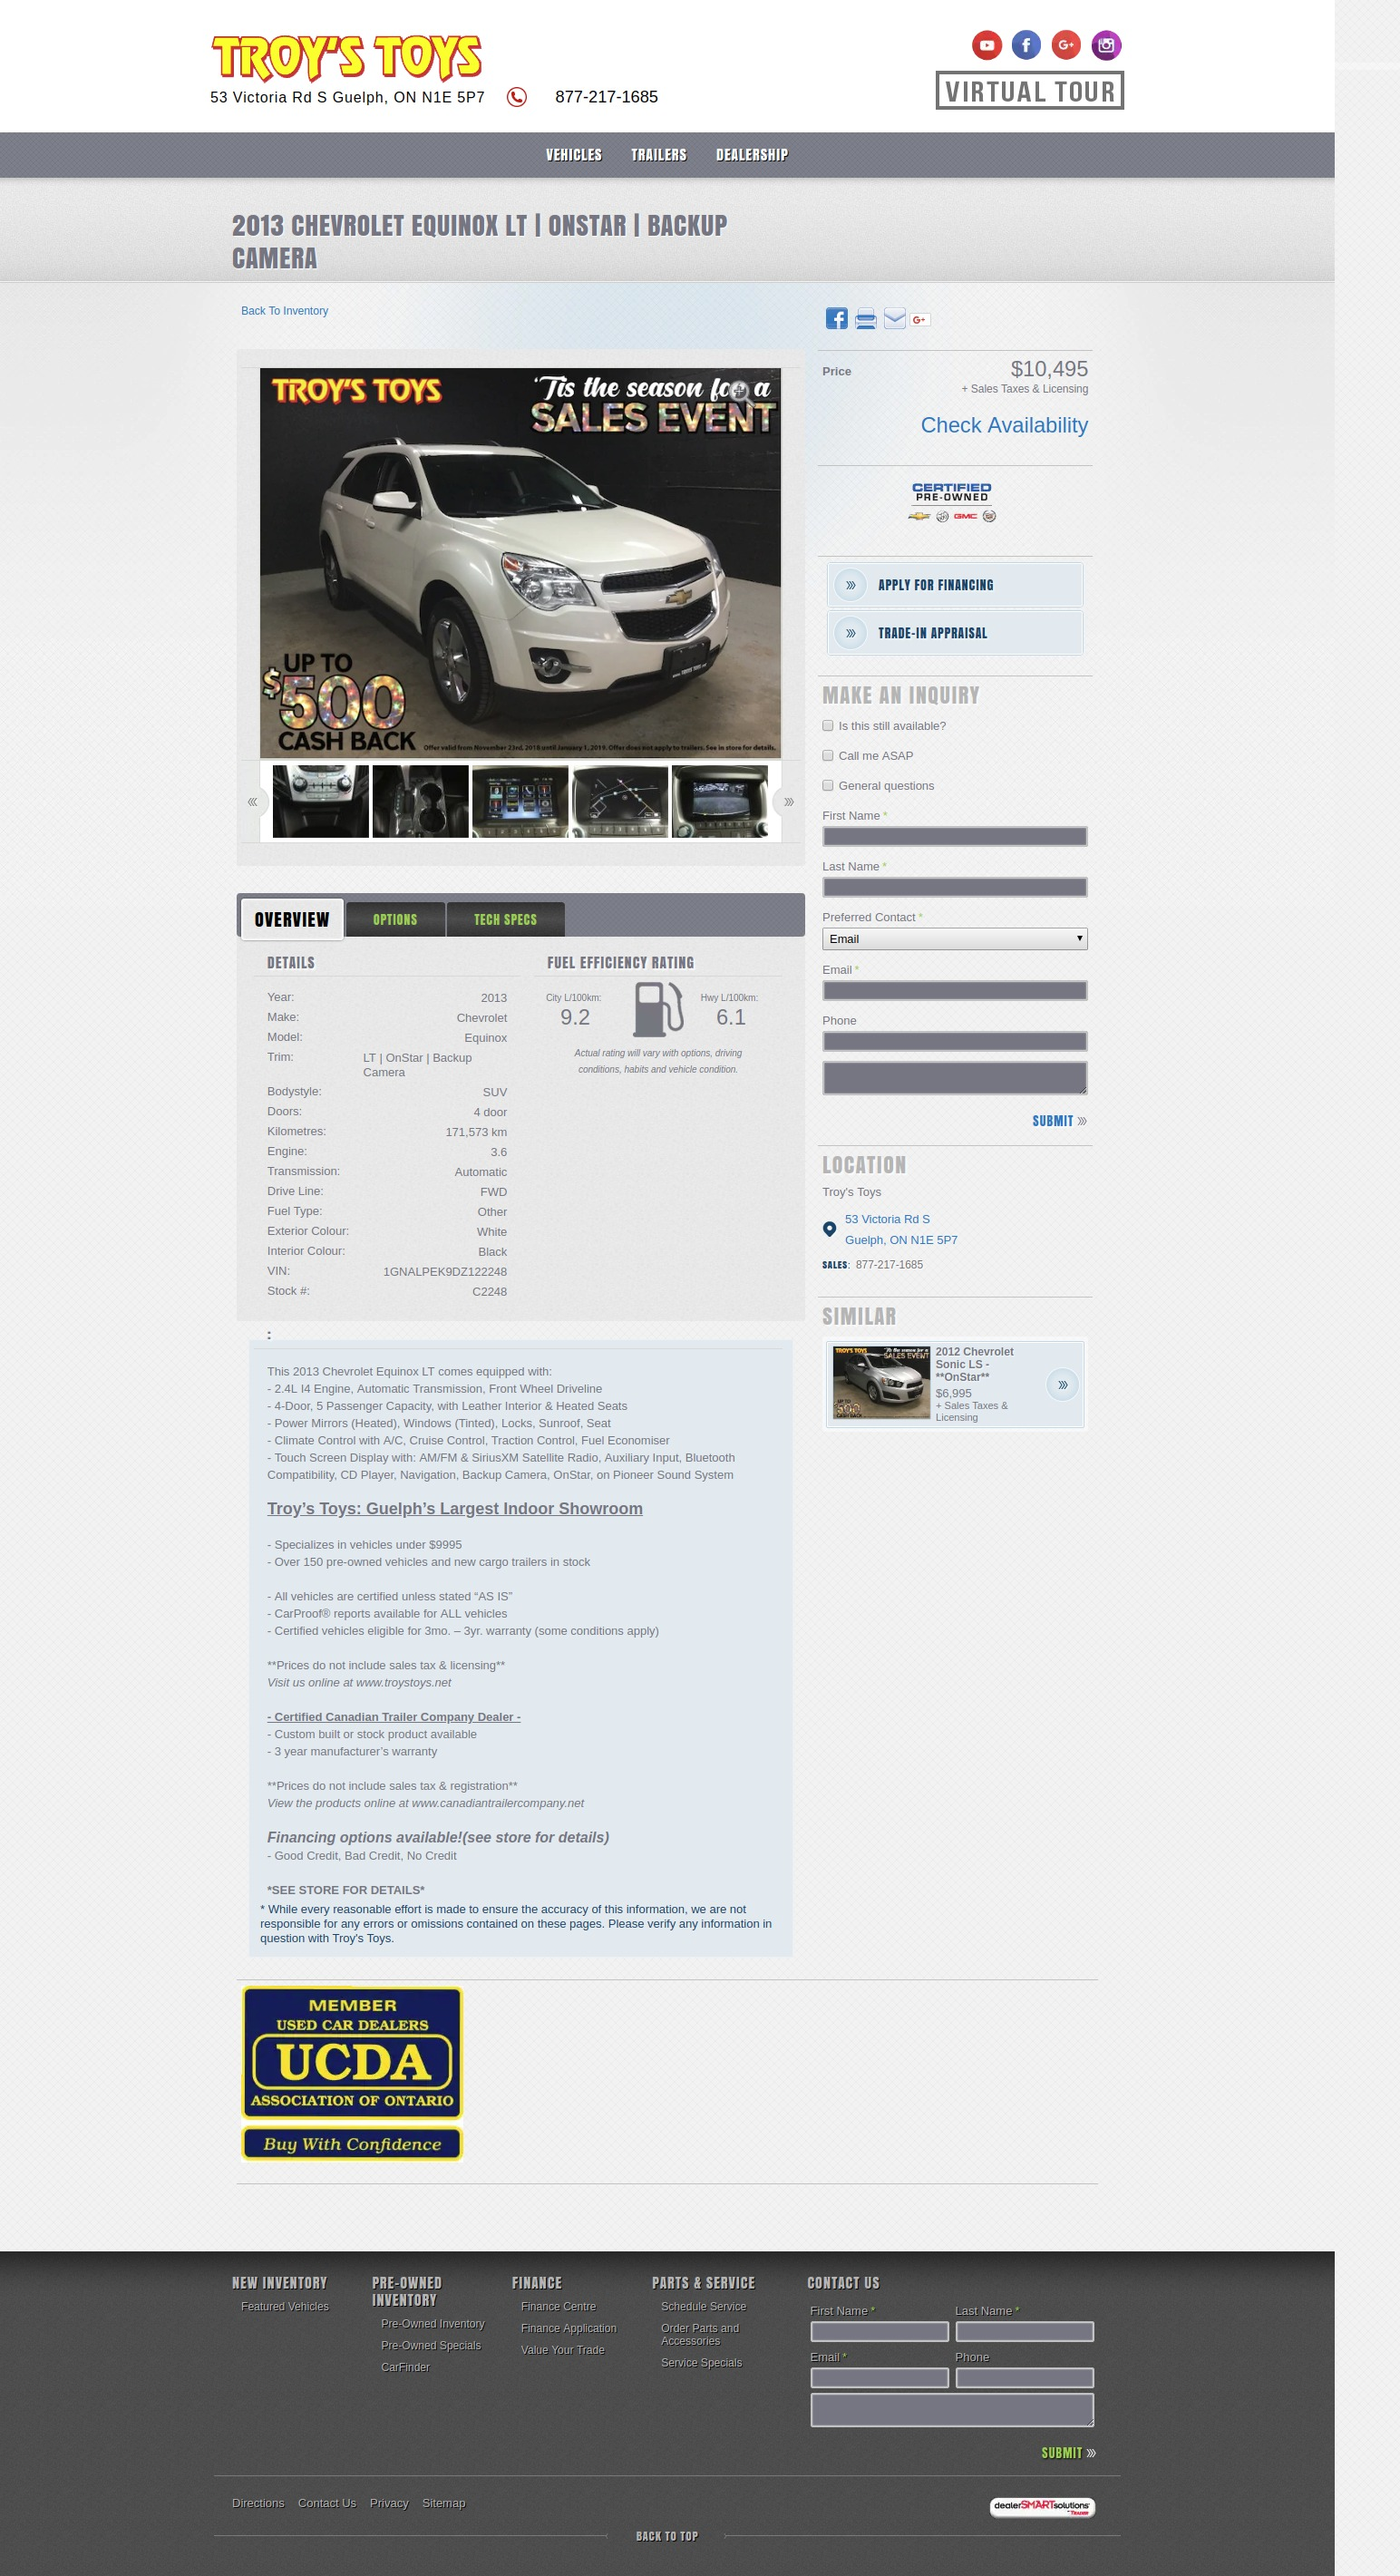car: (784, 798, 795, 806)
